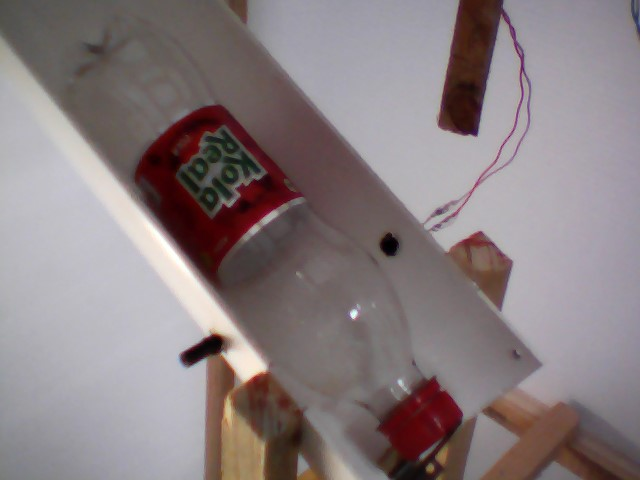plastico: (47, 8, 475, 462)
